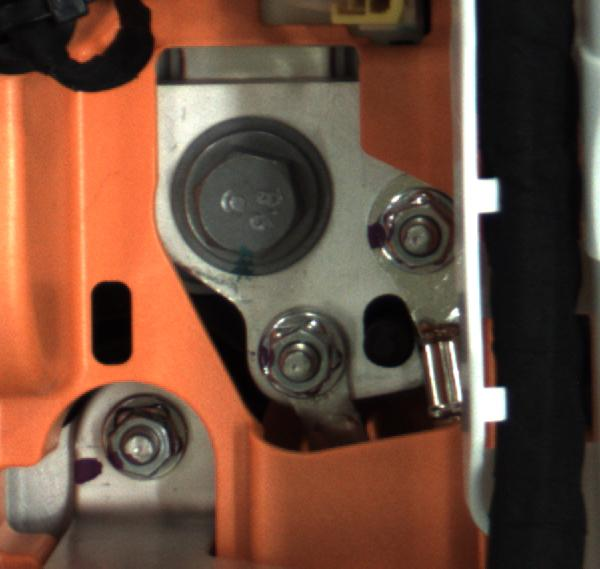nut_b: (154, 117, 329, 270)
screw_s: (255, 304, 351, 403), (93, 402, 190, 493), (370, 182, 458, 274)
